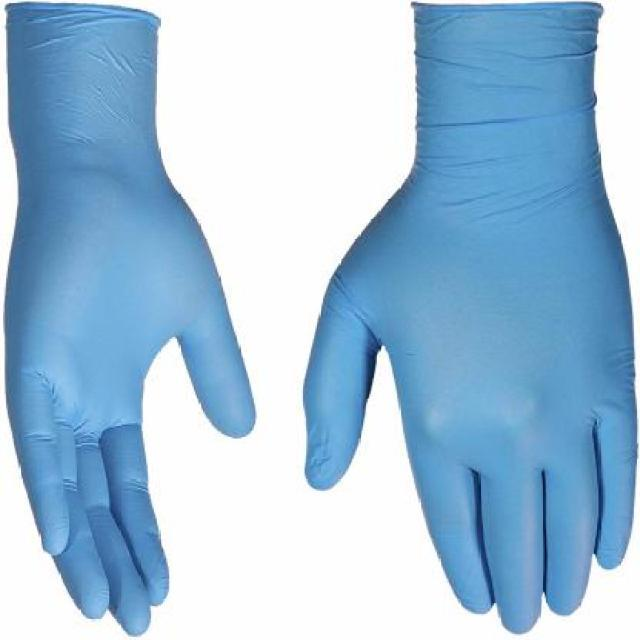gloved_hand: (300, 1, 640, 634), (2, 3, 255, 640)
